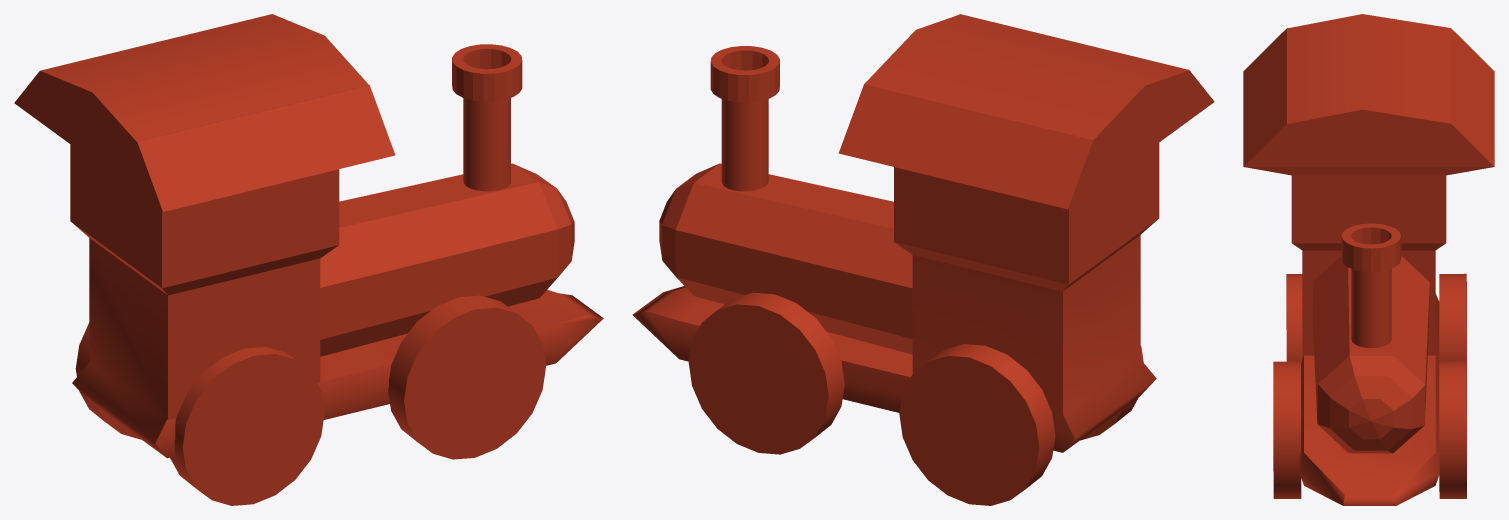
File: train.glb
3 renders of one model, left to right at view 1: azimuth 30°, elevation 25°; view 2: azimuth 150°, elevation 25°; view 3: azimuth 270°, elevation 25°, orthographic. The views are drawn at different scales.
Parts seen in each view (by area): view 1: pCube2; view 2: pCube2; view 3: pCube2.
Boxes of the visible parts, x1,y1,x2,y2 form: pCube2: (14, 14, 603, 505); pCube2: (632, 14, 1214, 505); pCube2: (1243, 14, 1494, 505).
Bounding box in the file's own units: 3.66 × 2.85 × 1.89.
